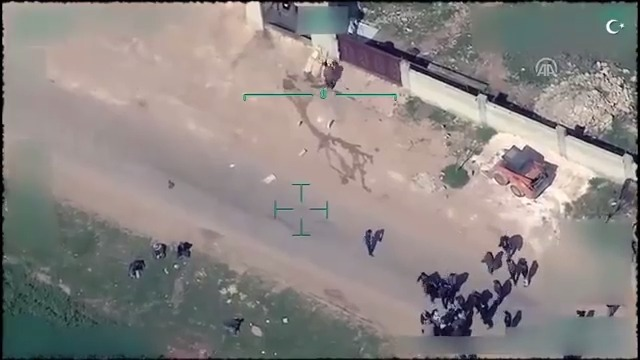arac: (480, 141, 558, 200)
insan: (515, 255, 539, 285), (479, 246, 500, 278), (359, 222, 375, 260), (318, 59, 334, 87)
